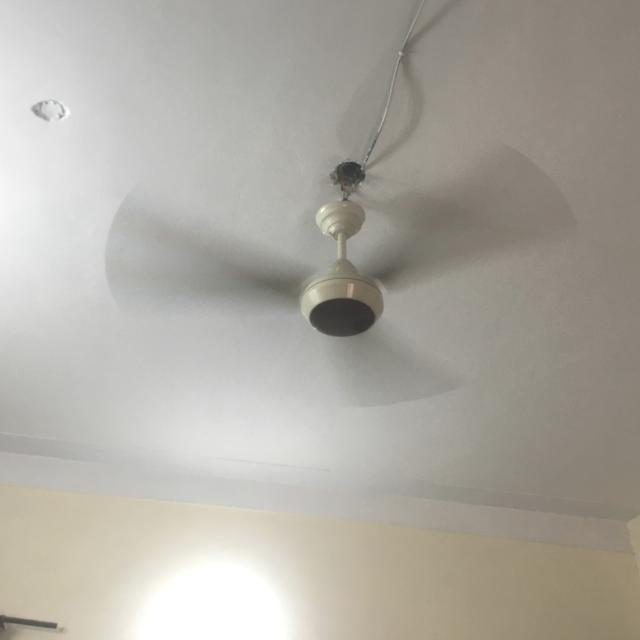on: (94, 134, 585, 421)
